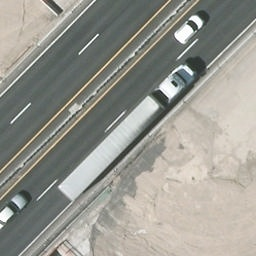car: (1, 192, 30, 232), (173, 13, 205, 44)
truck: (56, 63, 200, 202)
